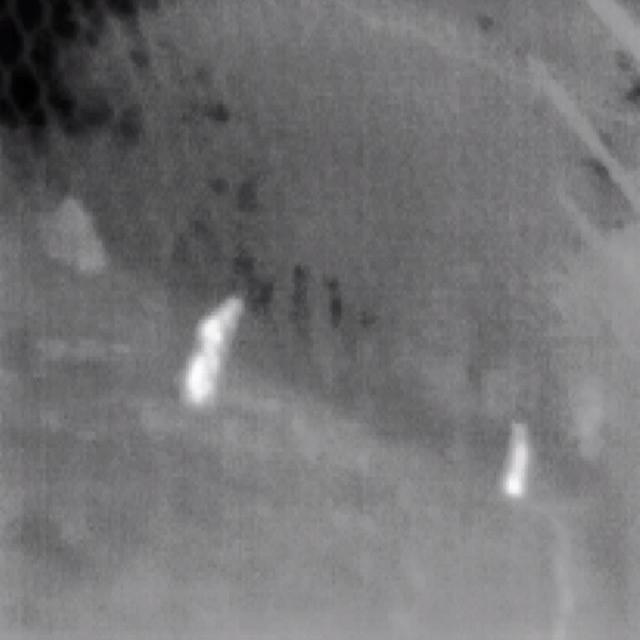cheetah: (177, 294, 244, 406), (503, 422, 529, 498)
